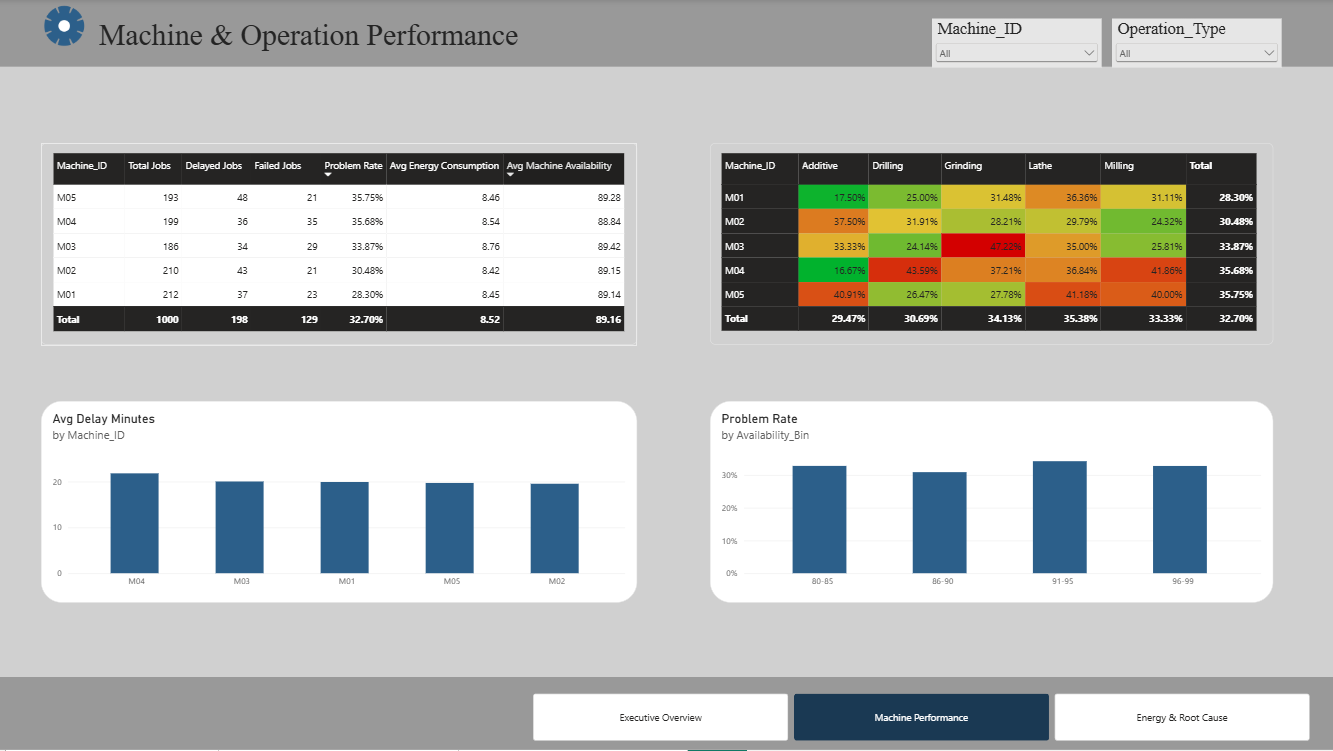

The dashboard page shown, as its layout file describes it:
{"tool":"powerbi","page":{"name":"Machine Performance","canvas":[1920,1080],"ordinal":1},"visuals":[{"type":"textbox","box":[0,975.1,1919.1,104.9],"z":0},{"type":"textbox","box":[0,0,1919.3,97.7],"z":1000},{"type":"pageNavigator","box":[768.2,997.8,1119.7,68],"z":2000},{"type":"tableEx","fields":{"Values":["hybrid_manufacturing.Machine_ID","hybrid_manufacturing.Total Jobs","hybrid_manufacturing.Delayed Jobs","hybrid_manufacturing.Failed Jobs","hybrid_manufacturing.Problem Rate","hybrid_manufacturing.Avg Energy Consumption","hybrid_manufacturing.Avg Machine Availability"]},"box":[60,207.5,857.5,290],"z":3000},{"type":"pivotTable","fields":{"Rows":["hybrid_manufacturing.Machine_ID"],"Columns":["hybrid_manufacturing.Operation_Type"],"Values":["hybrid_manufacturing.Problem Rate"]},"box":[1022.5,207.5,810,290],"z":4000},{"type":"columnChart","fields":{"Category":["hybrid_manufacturing.Machine_ID"],"Y":["hybrid_manufacturing.Avg Delay Minutes"]},"box":[60,577.5,857.5,290],"z":5000},{"type":"clusteredColumnChart","fields":{"Category":["hybrid_manufacturing.Availability_Bin"],"Y":["hybrid_manufacturing.Problem Rate"]},"box":[1022.5,577.5,810,290],"z":6000},{"type":"textbox","box":[58.2,28,772.3,49.6],"z":7000},{"type":"slicer","fields":{"Values":["hybrid_manufacturing.Machine_ID"]},"box":[1342.4,29,243.8,70.9],"z":9000},{"type":"slicer","fields":{"Values":["hybrid_manufacturing.Operation_Type"]},"box":[1600.3,29,243.8,70.9],"z":9001},{"type":"image","box":[43.1,0,101.4,77.7],"z":9002}]}

Visuals, with their boxes in screenshot pixels (x1, y1, x2, y2), scaled from the page's 1920x1080 canvas onto the 1333x751 screenshot:
textbox: 0 678 1332 750
textbox: 0 0 1332 68
pageNavigator: 533 694 1311 741
tableEx - hybrid_manufacturing.Machine_ID x hybrid_manufacturing.Total Jobs: 42 144 637 346
pivotTable - hybrid_manufacturing.Machine_ID x hybrid_manufacturing.Operation_Type: 710 144 1272 346
columnChart - hybrid_manufacturing.Machine_ID x hybrid_manufacturing.Avg Delay Minutes: 42 402 637 603
clusteredColumnChart - hybrid_manufacturing.Availability_Bin x hybrid_manufacturing.Problem Rate: 710 402 1272 603
textbox: 40 19 577 54
slicer - hybrid_manufacturing.Machine_ID: 932 20 1101 69
slicer - hybrid_manufacturing.Operation_Type: 1111 20 1280 69
image: 30 0 100 54
